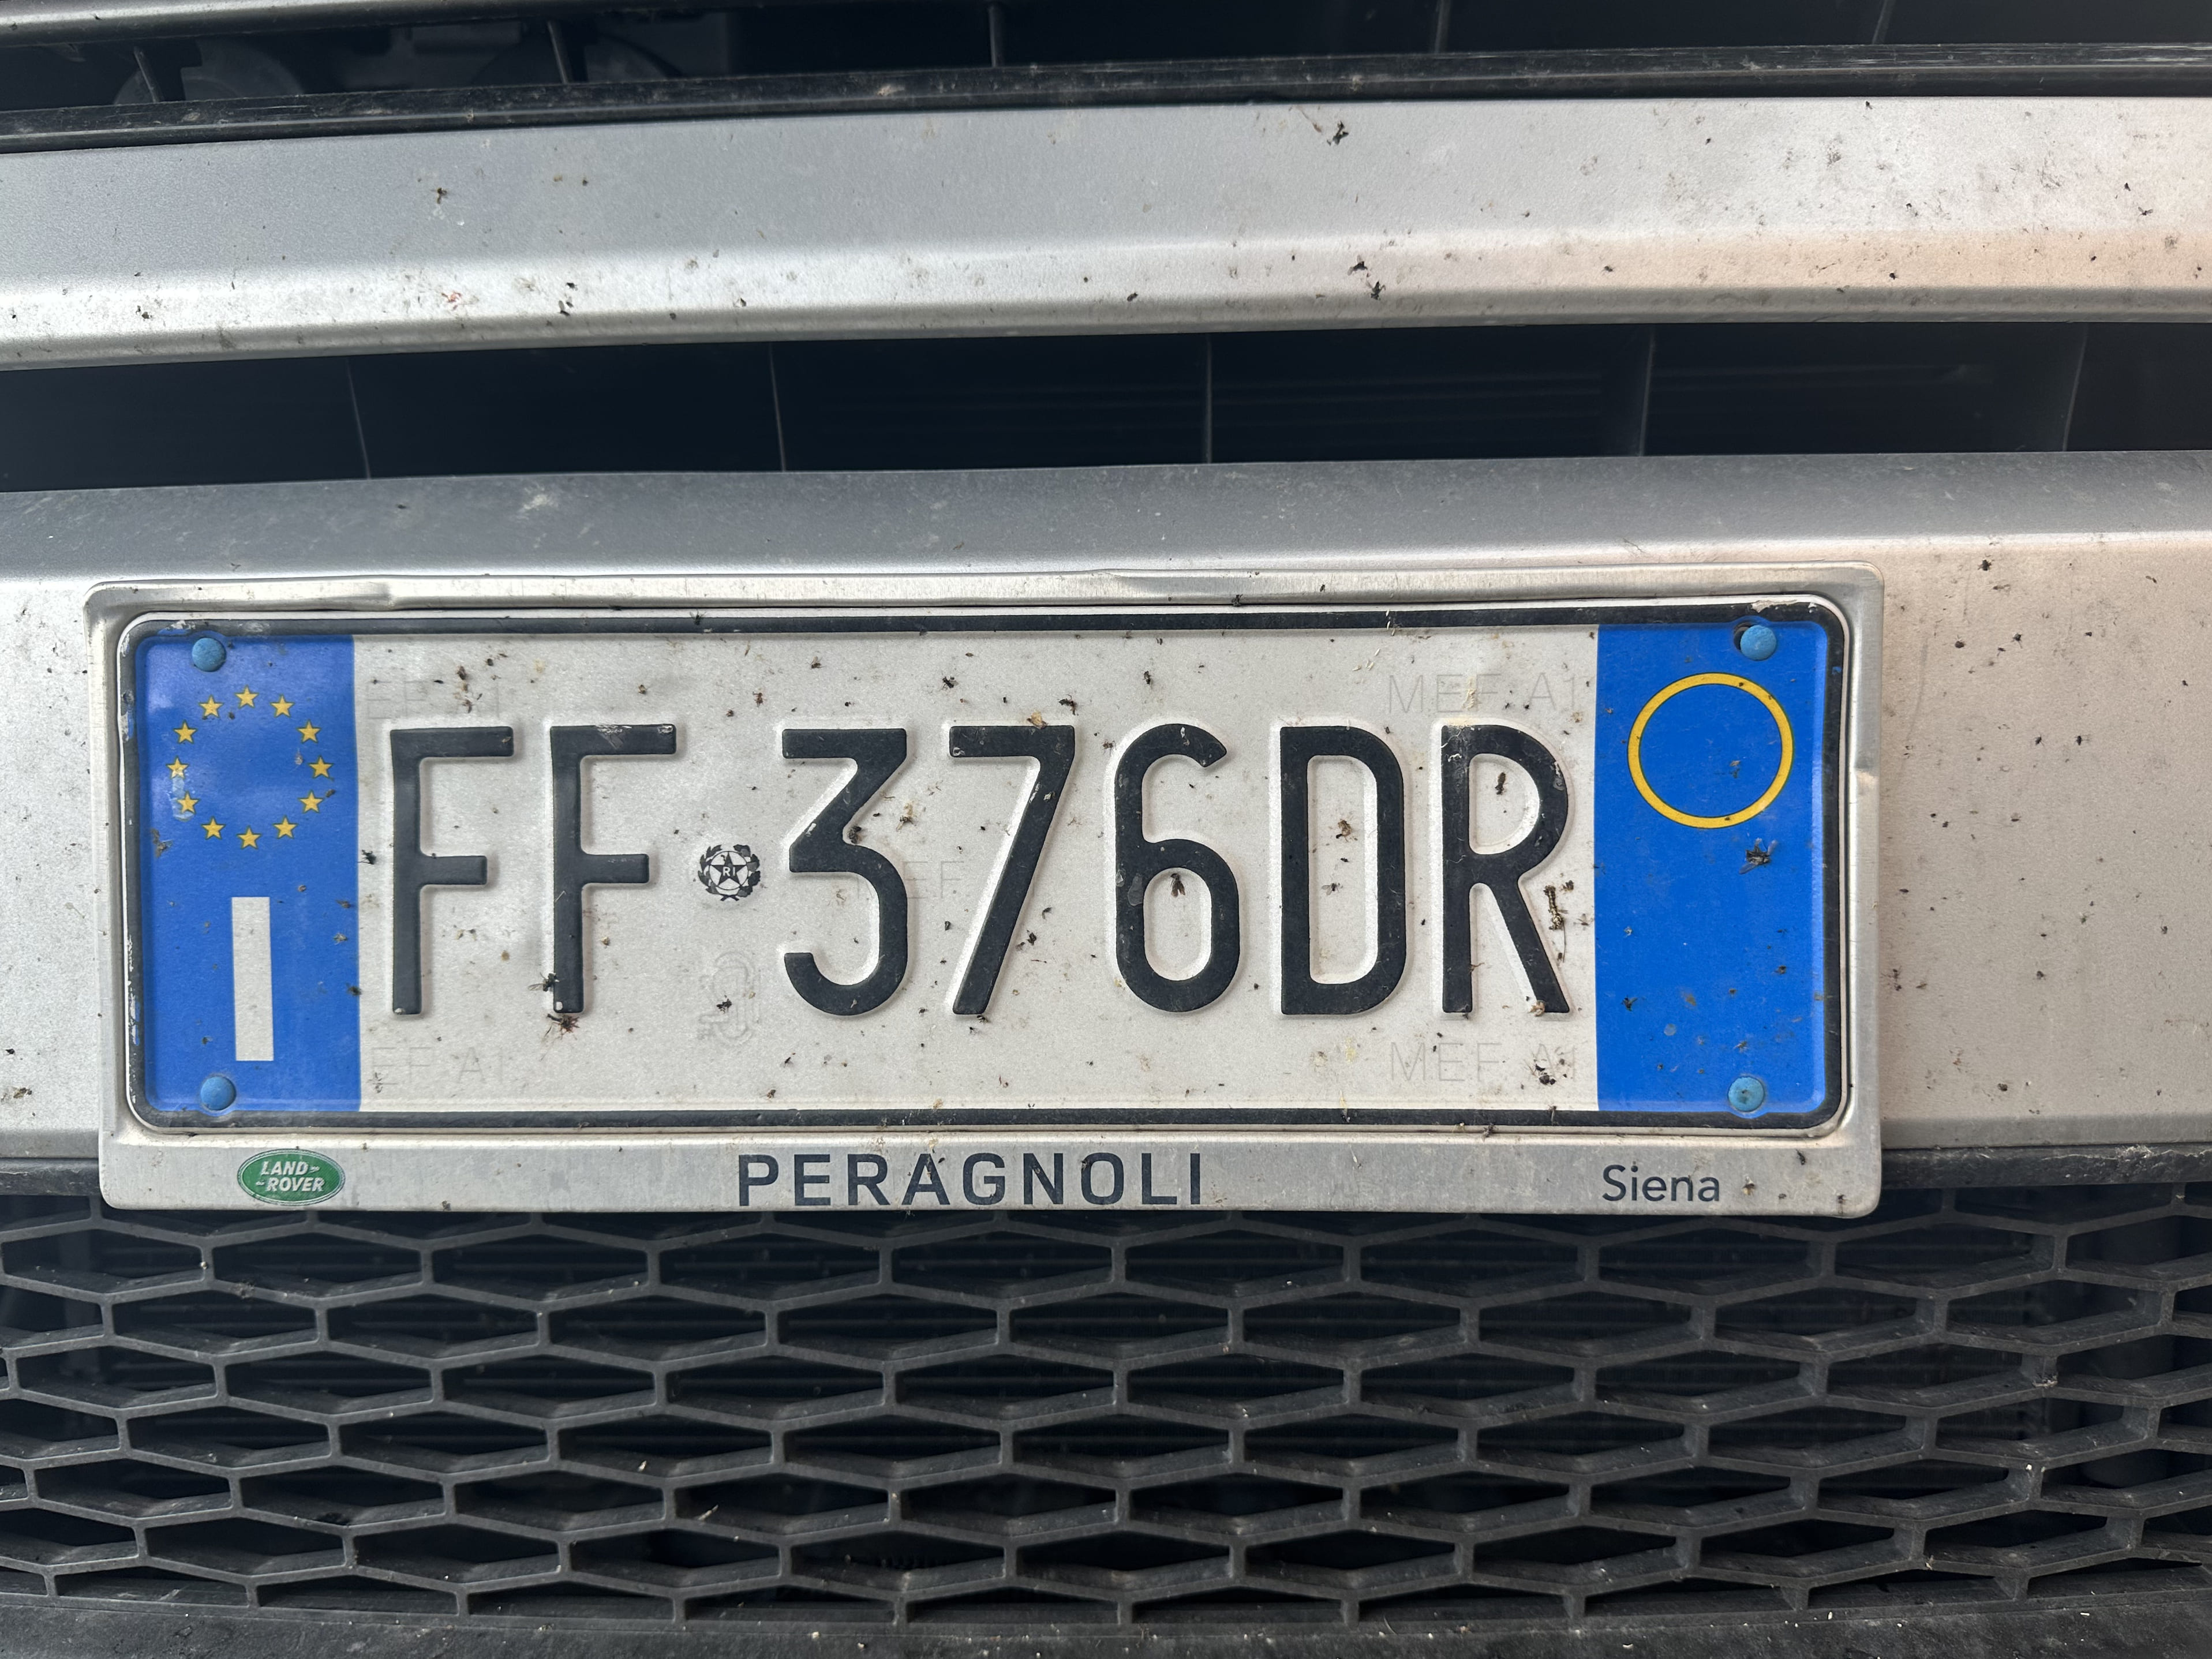license-plate: (115, 590, 1851, 1139)
